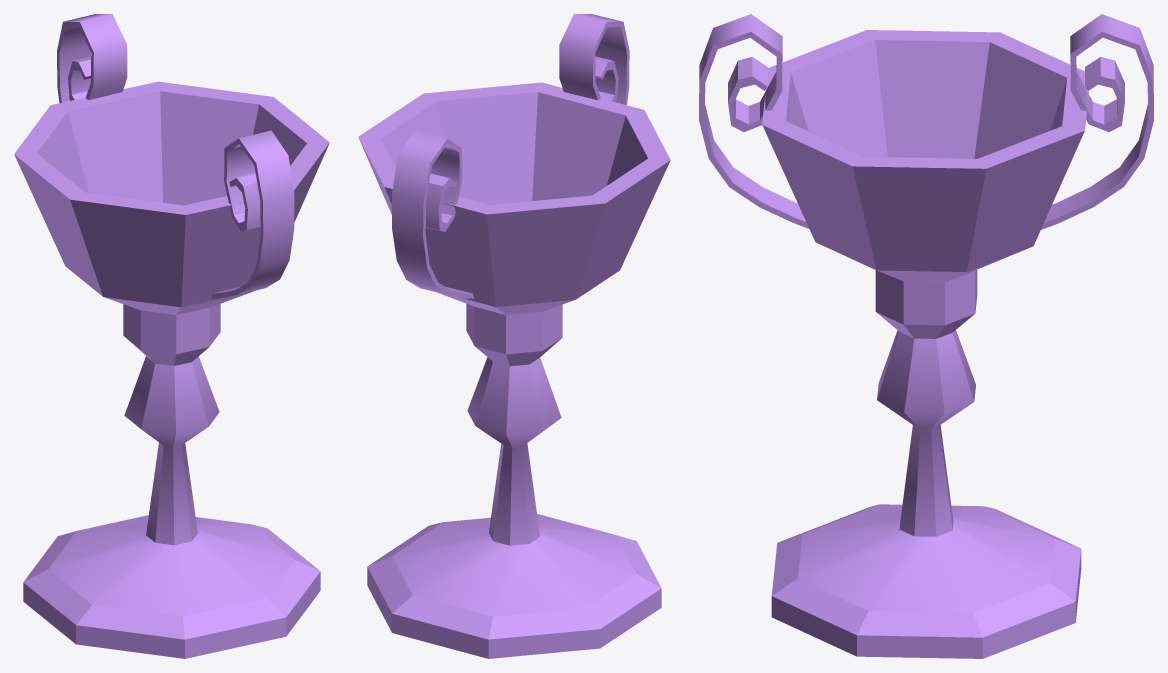
The model's file is SM_Chalice_02.fbx.
The picture shows the model from 3 angles, left to right: view 1: azimuth 30°, elevation 25°; view 2: azimuth 150°, elevation 25°; view 3: azimuth 270°, elevation 25°; orthographic projection. The views are drawn at different scales.
Visible parts, largest first — view 1: Chalice02, Handle02, Handle01; view 2: Chalice02, Handle01, Handle02; view 3: Chalice02, Handle01, Handle02.
Part boxes in pixels (x1=…): Chalice02: x1=14, y1=81, x2=329, y2=658; Handle02: x1=211, y1=130, x2=294, y2=298; Handle01: x1=57, y1=14, x2=127, y2=103; Chalice02: x1=358, y1=82, x2=670, y2=658; Handle01: x1=392, y1=130, x2=474, y2=298; Handle02: x1=559, y1=14, x2=629, y2=105; Chalice02: x1=762, y1=30, x2=1088, y2=658; Handle01: x1=1041, y1=14, x2=1153, y2=229; Handle02: x1=699, y1=14, x2=809, y2=228.
Bounding box in the file's own units: 26.95 × 51.81 × 37.29.
